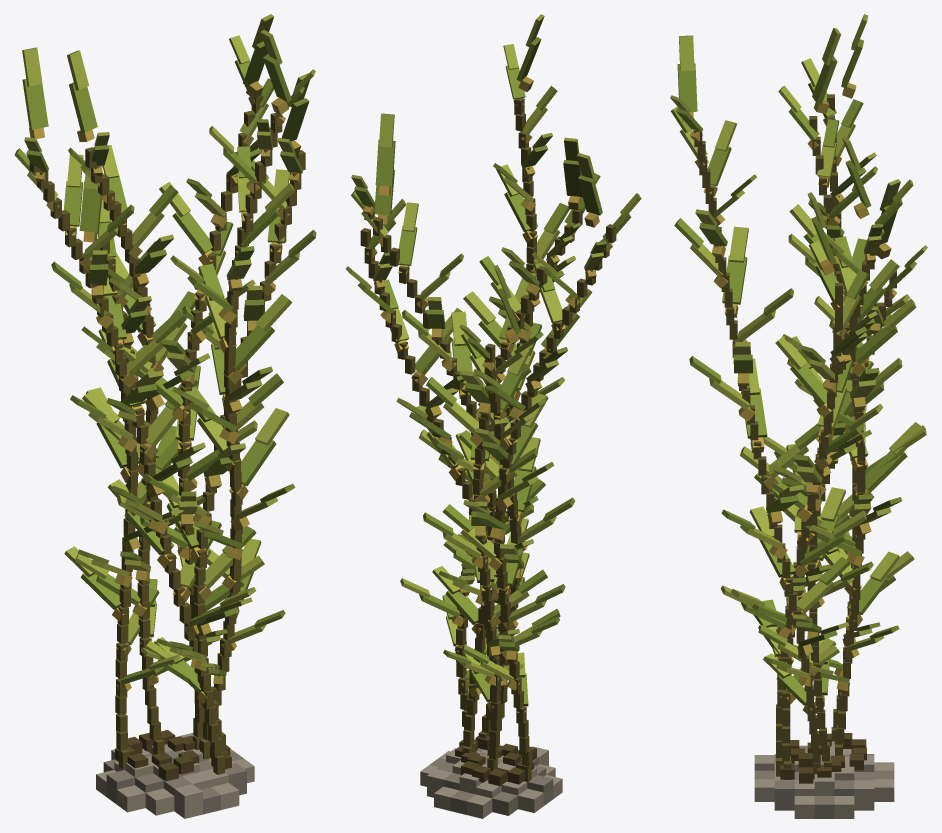
The model's file is GiantKelp.obj.
3 renders of one model, left to right at view 1: azimuth 30°, elevation 25°; view 2: azimuth 150°, elevation 25°; view 3: azimuth 270°, elevation 25°, orthographic. The views are drawn at different scales.
Visible parts, largest first — view 1: GiantKelp; view 2: GiantKelp; view 3: GiantKelp.
Boxes of the visible parts, box(x1,y1,x2,y2) form: GiantKelp: box(14, 14, 316, 818); GiantKelp: box(346, 14, 641, 818); GiantKelp: box(670, 14, 927, 818).
Bounding box in the file's own units: 4.1 × 10.55 × 3.23.
Materials: 1 (1 with a texture image).
